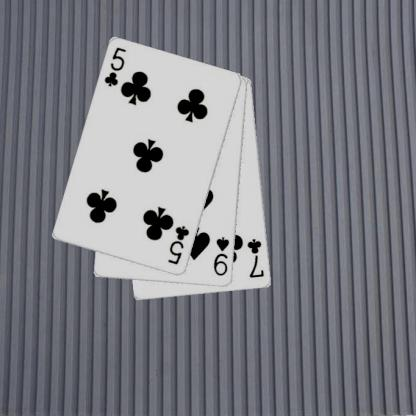5C: (165, 223, 191, 267), (102, 45, 127, 89)
7C: (245, 236, 266, 279)
9S: (211, 234, 231, 278)
